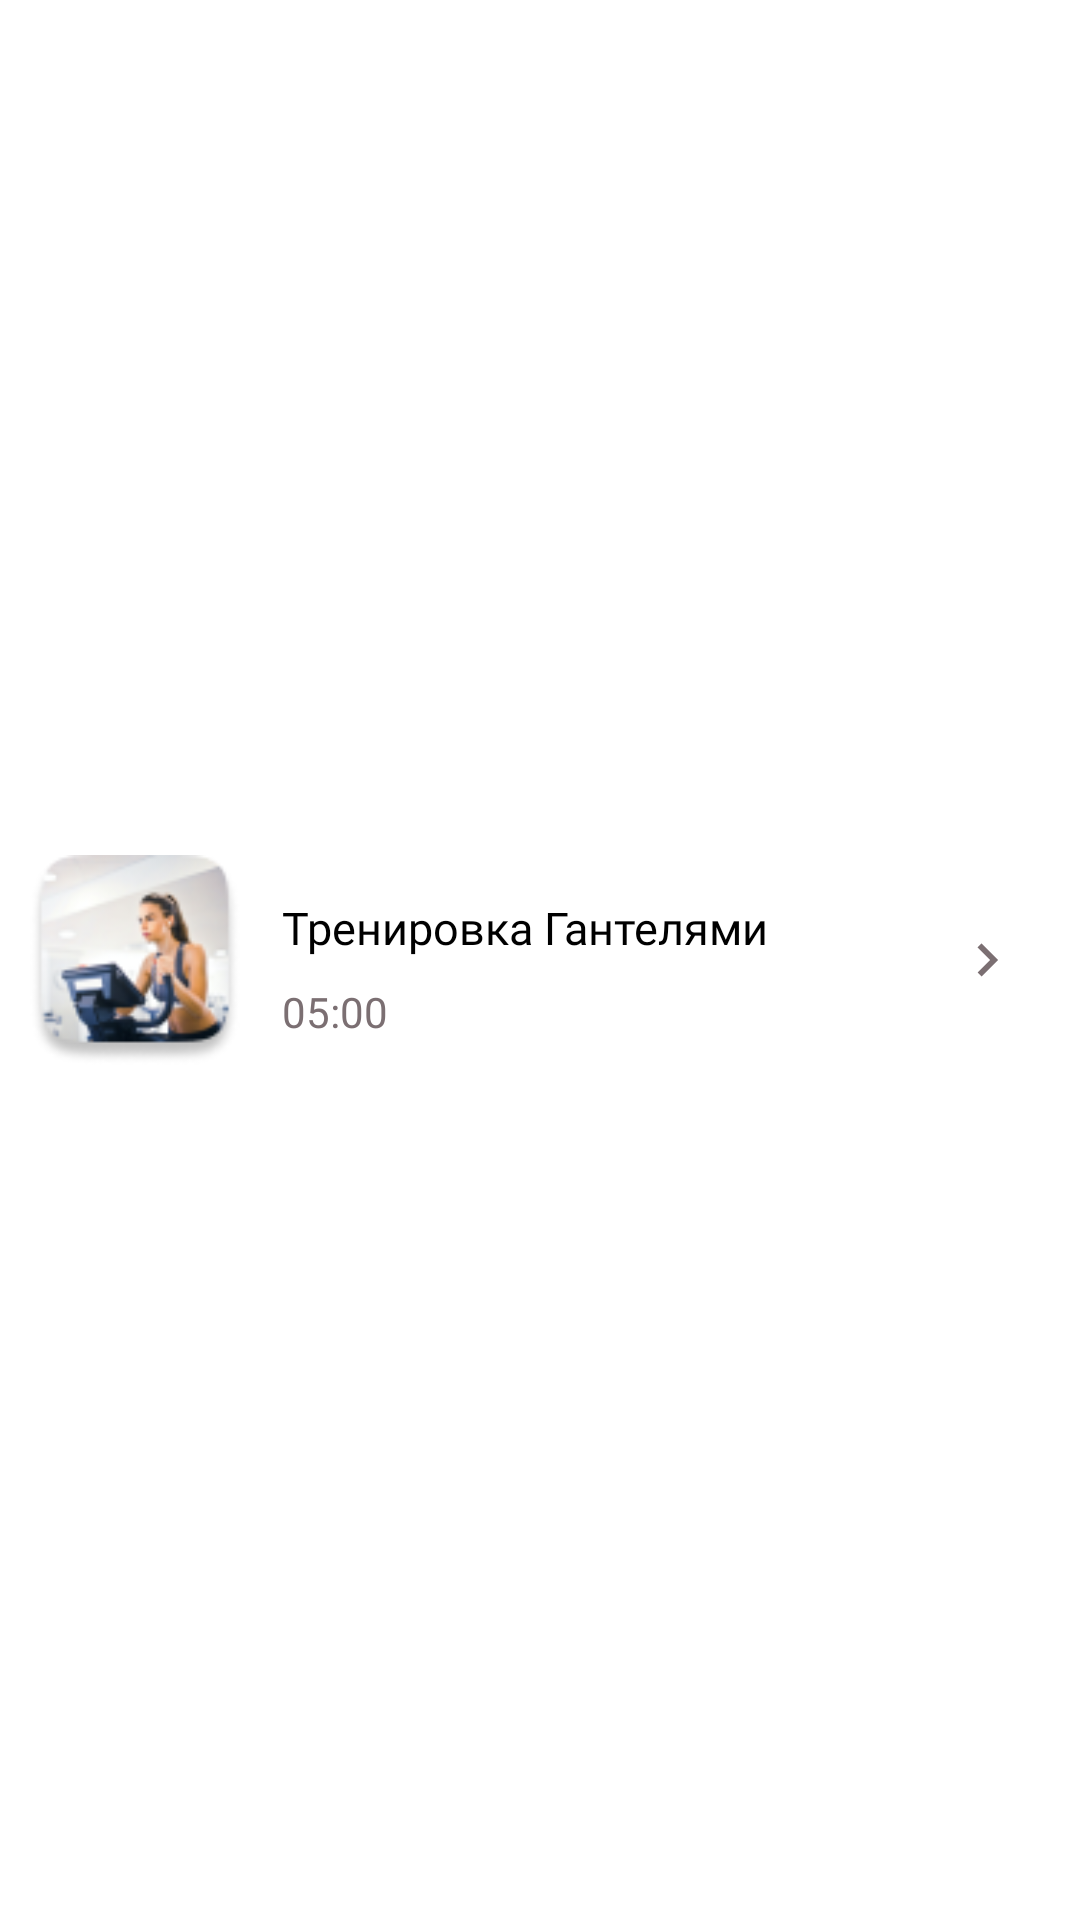

Where to tap for icons on this 1080x1920 app screen, as (x=x, y=y):
arrow right: (x=987, y=960)
